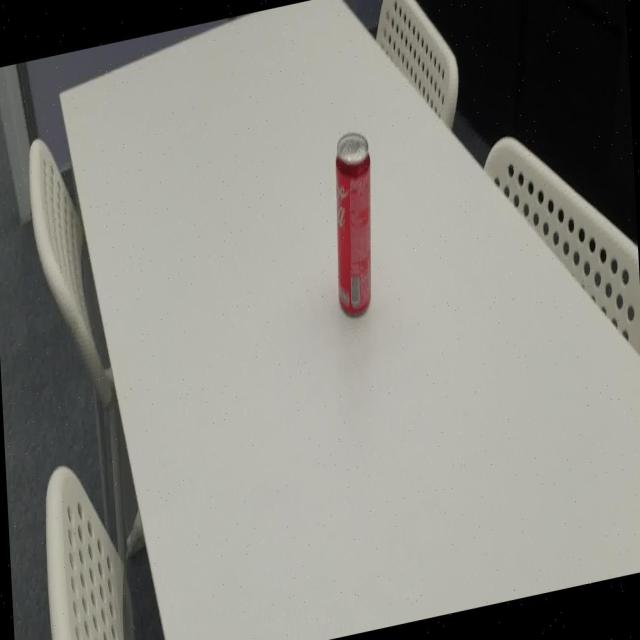coca-cola: (330, 128, 378, 319)
